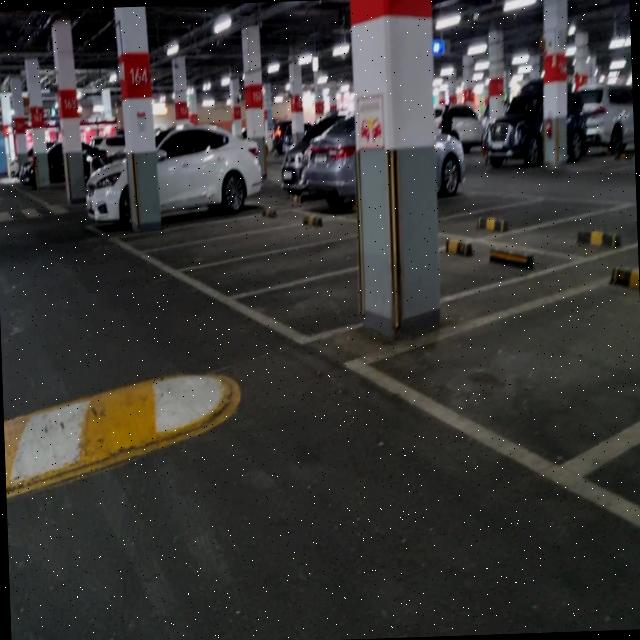empty: (336, 268, 640, 503), (226, 236, 570, 338), (174, 220, 358, 312), (142, 211, 362, 284), (125, 226, 324, 262)
occupied: (84, 130, 252, 238)
